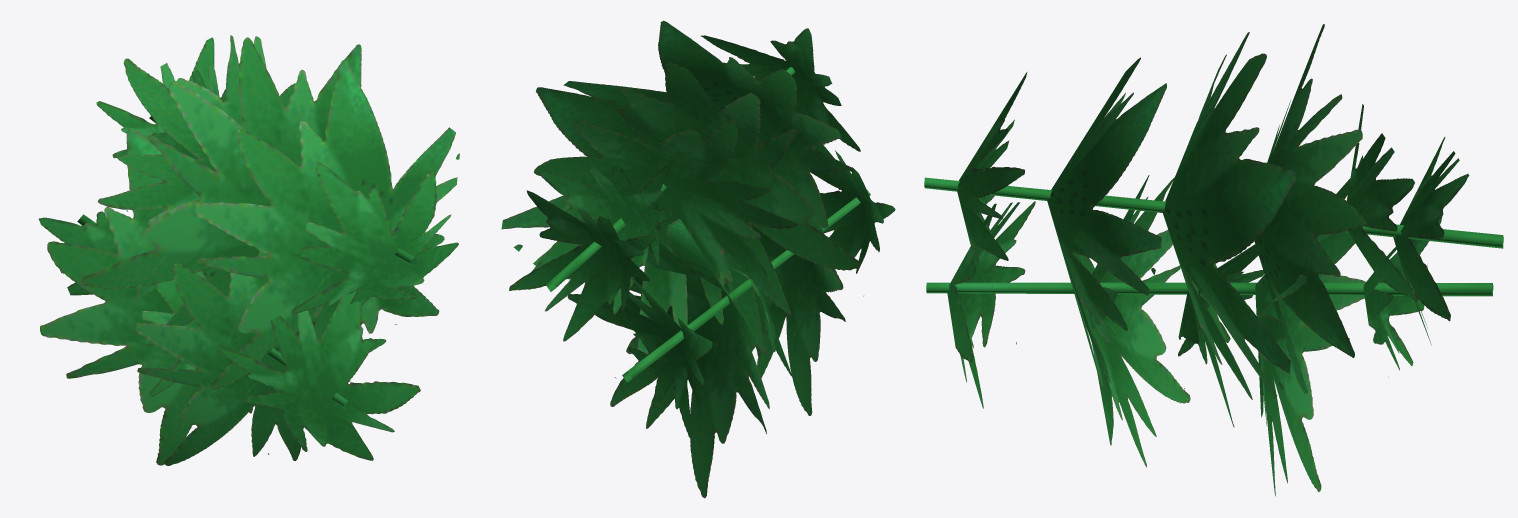
Rendered from corn.glb.
3 views of the same model, side by side, from view 1: azimuth 30°, elevation 25°; view 2: azimuth 150°, elevation 25°; view 3: azimuth 270°, elevation 25° (orthographic). The views are drawn at different scales.
Visible parts, largest first — view 1: corn; view 2: corn; view 3: corn.
Part boxes in pixels (x1=…): corn: x1=39, y1=35, x2=459, y2=465; corn: x1=501, y1=20, x2=895, y2=498; corn: x1=924, y1=24, x2=1503, y2=496.
Bounding box in the file's own units: 2.98 × 3.67 × 3.81.
1 material, 1 textured.
